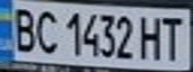1: (60, 8, 84, 56)
2: (115, 11, 139, 61)
3: (97, 10, 118, 60)
4: (78, 9, 100, 57)
B: (6, 3, 39, 53)
C: (30, 6, 60, 55)
H: (136, 12, 166, 61)
T: (157, 12, 187, 61)
